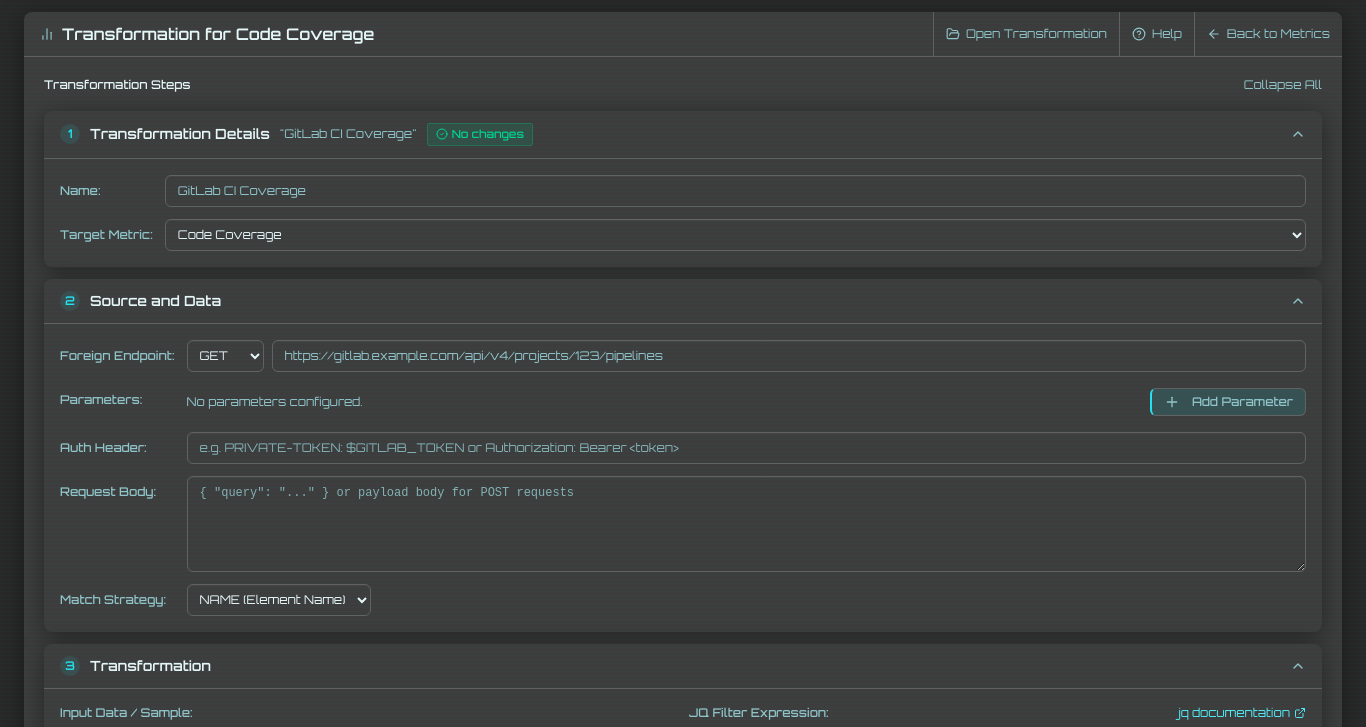
Test: MetricPushView (Subpage) › shows loaded from persistence badge when transformation matches saved data
Expected: the element with test id "transformation-status-saved" reads "No changes", [452,127,524,141]
Editing transformation name or URL changes status to "Unsaved changes"
Replace the text in the field with placeholder "Transformation Name" next to "Name:" with "Modified GitLab CI": (735, 190) [165,174,1306,206]
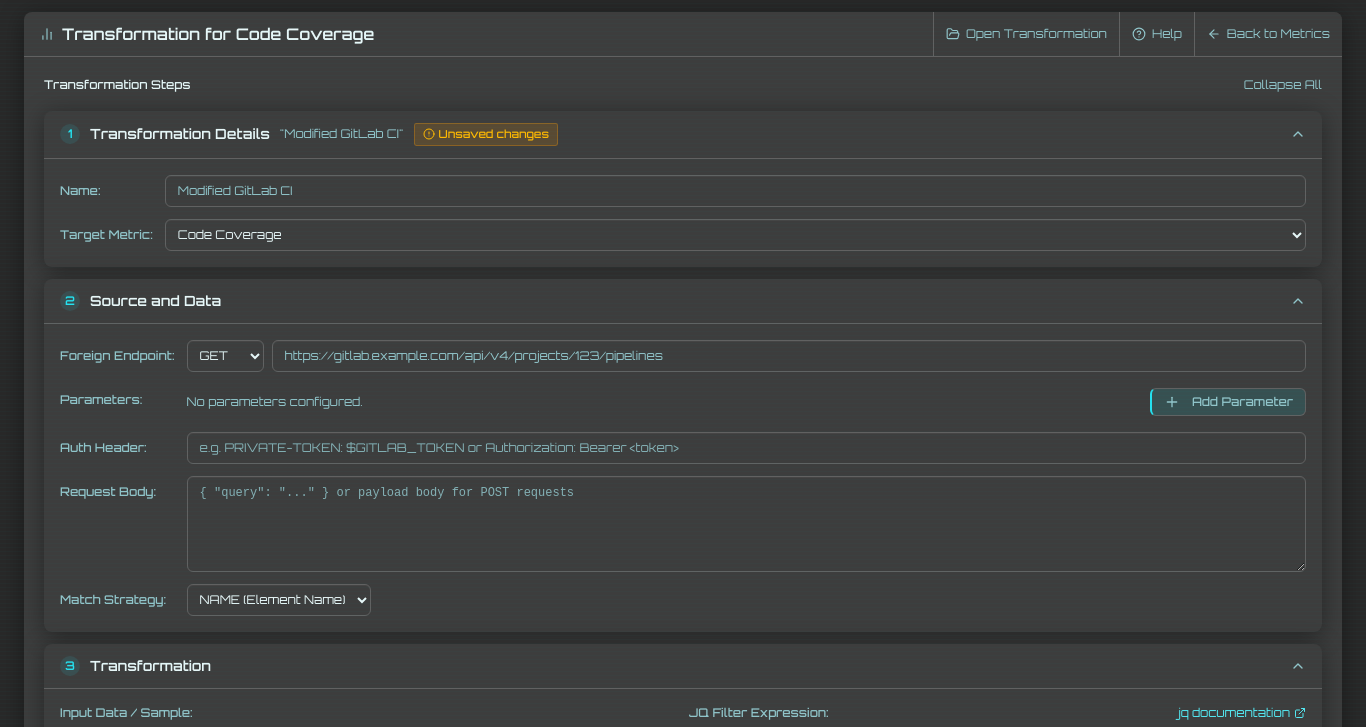
Expected: the element with test id "transformation-status-dirty" reads "Unsaved changes", [438,127,549,141]
